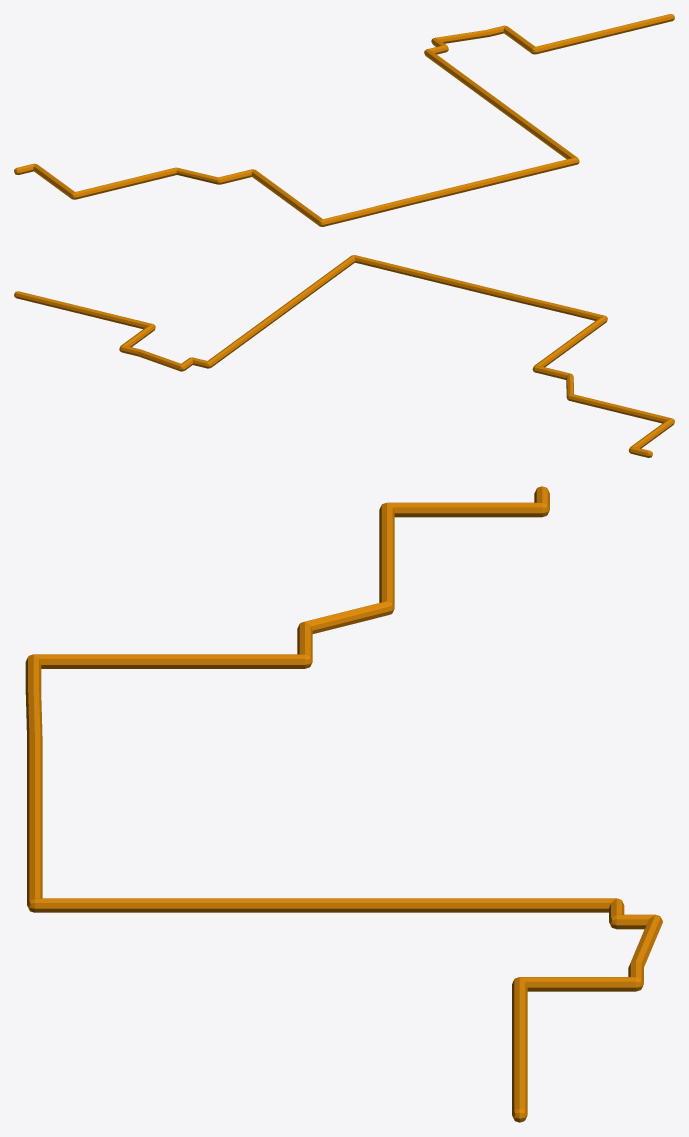
The picture shows the model from 3 angles, top to bottom: view 1: azimuth 30°, elevation 25°; view 2: azimuth 150°, elevation 25°; view 3: azimuth 270°, elevation 25°; orthographic projection. The views are drawn at different scales.
Bounding box in the file's own units: 1917 × 20 × 822.
